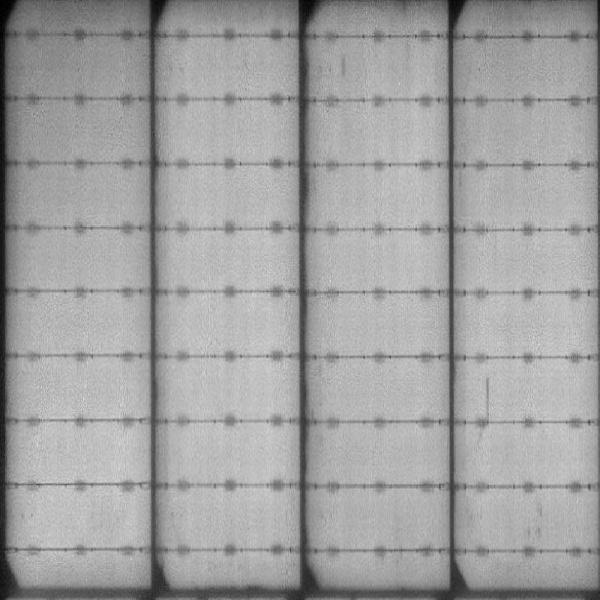scratch: (477, 366, 495, 425), (337, 52, 351, 84)
